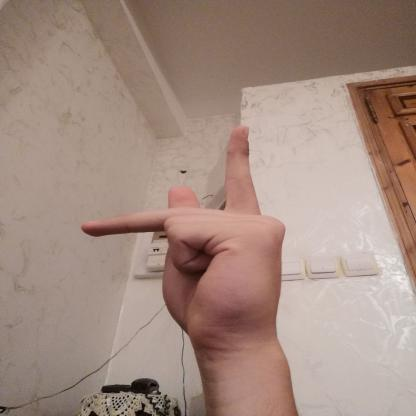DHAA: (67, 116, 302, 358)
